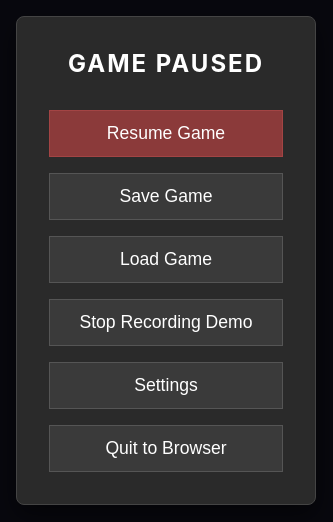
Test: GameMenu › stops recording and downloads
Click the button "Stop Recording Demo" at [166, 322], box [49,298,283,346]
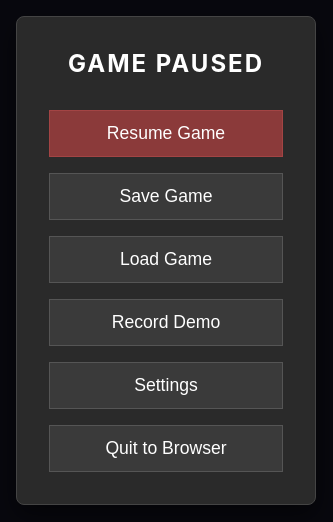
Check: the button "Record Demo" is shown, box [49,298,283,346]
